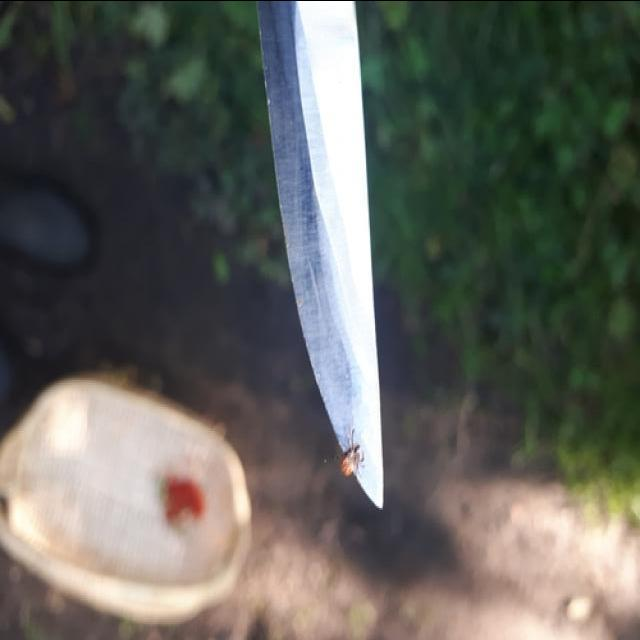Ixodes Ricinus-F: (334, 439, 362, 478)
